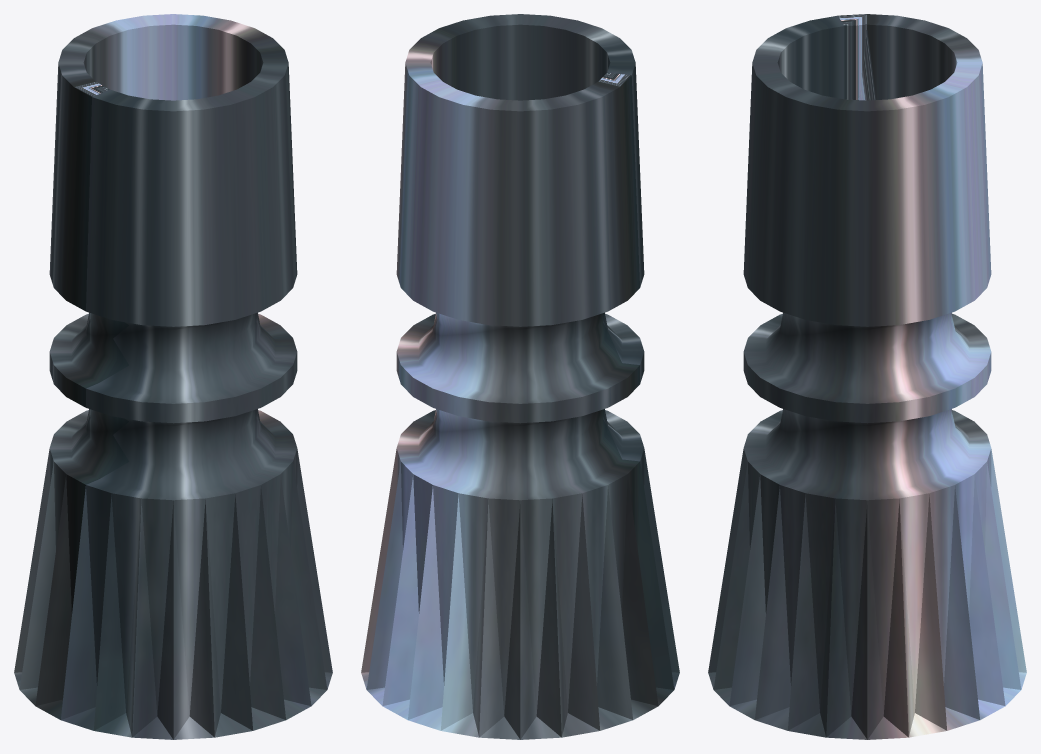
Rendered from PegPlasticT24.fbx.
The picture shows the model from 3 angles, left to right: view 1: azimuth 30°, elevation 25°; view 2: azimuth 150°, elevation 25°; view 3: azimuth 270°, elevation 25°; orthographic projection.
Parts seen in each view (by area): view 1: PegPlasticT24; view 2: PegPlasticT24; view 3: PegPlasticT24.
Part boxes in pixels (box(x1,y1,x2,y2)): PegPlasticT24: box(14, 14, 332, 739); PegPlasticT24: box(361, 14, 679, 739); PegPlasticT24: box(708, 14, 1026, 739).
Bounding box in the file's own units: 1.85 × 3.9 × 1.85.
1 material, 1 textured.
